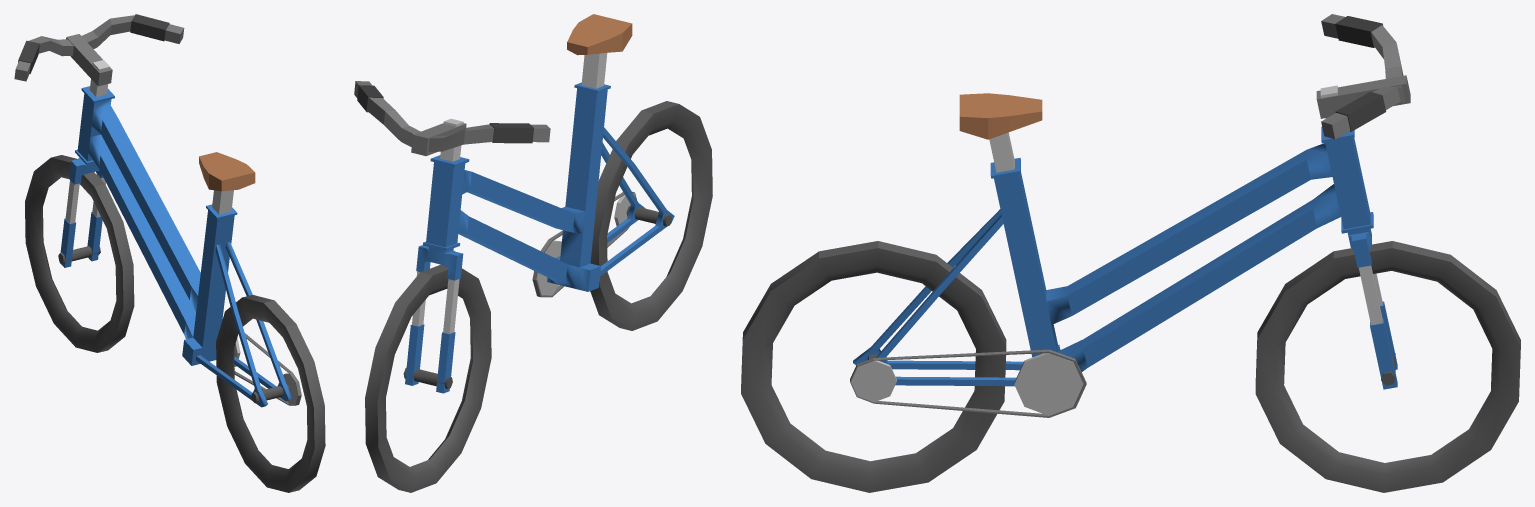
The picture shows the model from 3 angles, left to right: view 1: azimuth 30°, elevation 25°; view 2: azimuth 150°, elevation 25°; view 3: azimuth 270°, elevation 25°; orthographic projection. The views are drawn at different scales.
Visible parts, largest first — view 1: Cadre 2, object 2, Roue Avant, Guidon 3, Selle; view 2: Cadre 2, Roue Avant, object 2, Guidon 3, Selle; view 3: Cadre 2, object 2, Roue Avant, Guidon 3, Selle.
Boxes of the visible parts, box(x1,y1,x2,y2) form: Cadre 2: box(59, 86, 301, 407); object 2: box(216, 295, 325, 492); Roue Avant: box(25, 155, 134, 352); Guidon 3: box(14, 14, 184, 96); Selle: box(199, 152, 255, 214); Cadre 2: box(405, 82, 674, 393); Roue Avant: box(365, 264, 491, 492); object 2: box(590, 101, 712, 330); Guidon 3: box(354, 81, 550, 161); Selle: box(567, 14, 632, 88); Cadre 2: box(850, 126, 1397, 417); object 2: box(741, 241, 1006, 492); Roue Avant: box(1255, 241, 1520, 492); Guidon 3: box(1316, 14, 1410, 139); Selle: box(959, 93, 1042, 172).
Size of the model in its own units: 1.1 by 2 by 3.29.
